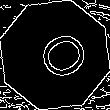O_SW: (22, 24, 88, 86)
